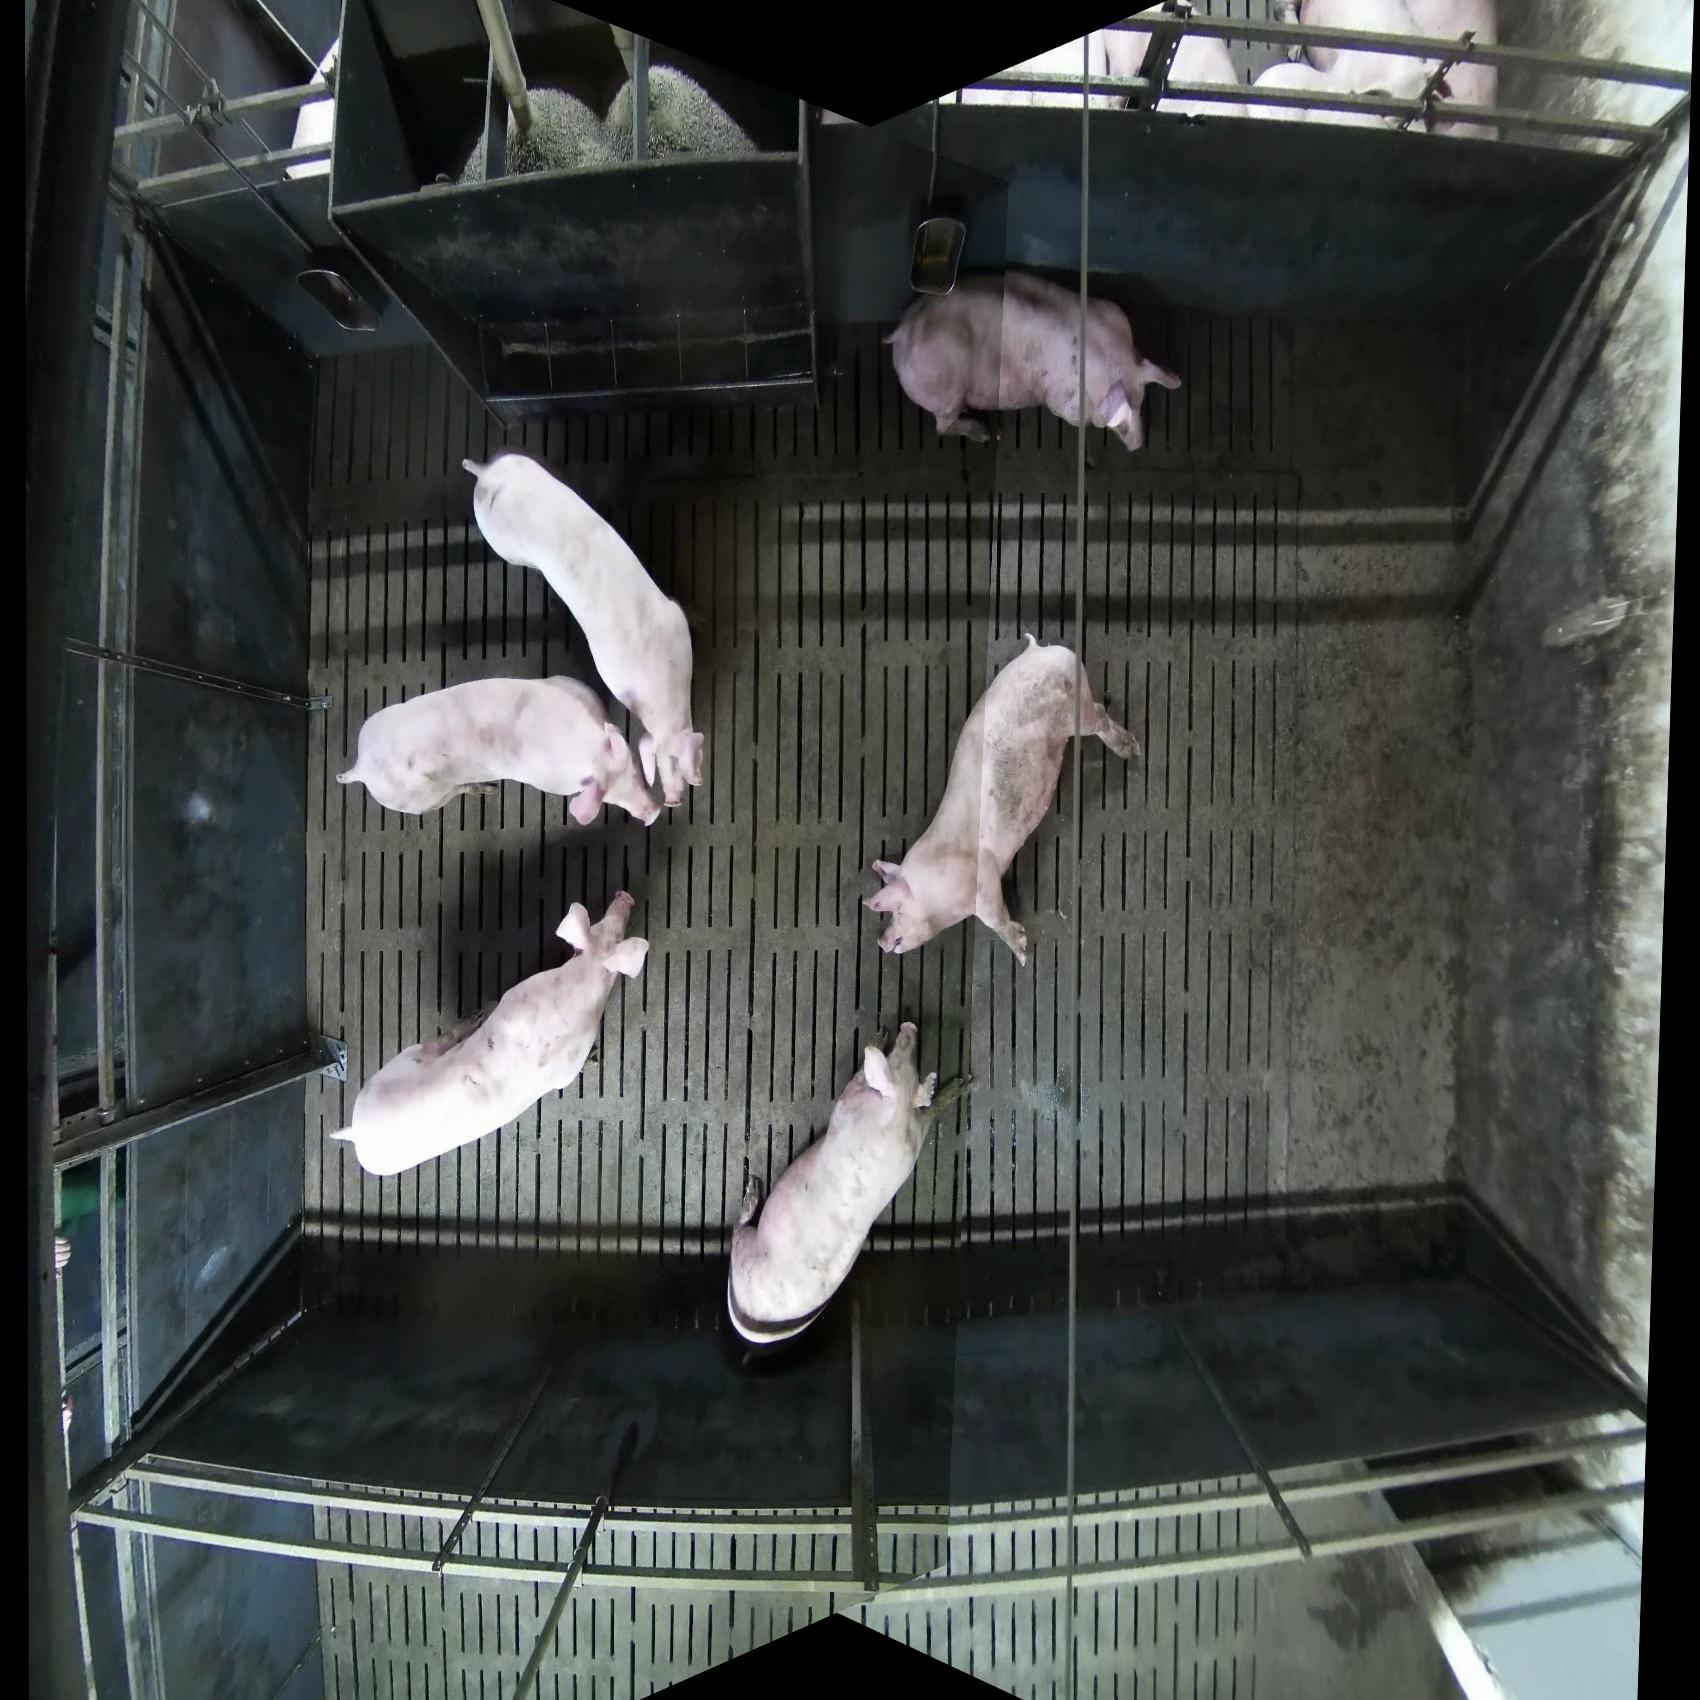pig: (862, 630, 1141, 971), (328, 890, 651, 1178), (459, 448, 707, 810), (724, 1020, 940, 1348), (884, 269, 1185, 453), (335, 673, 665, 830), (1250, 2, 1501, 140), (1090, 19, 1247, 120)
